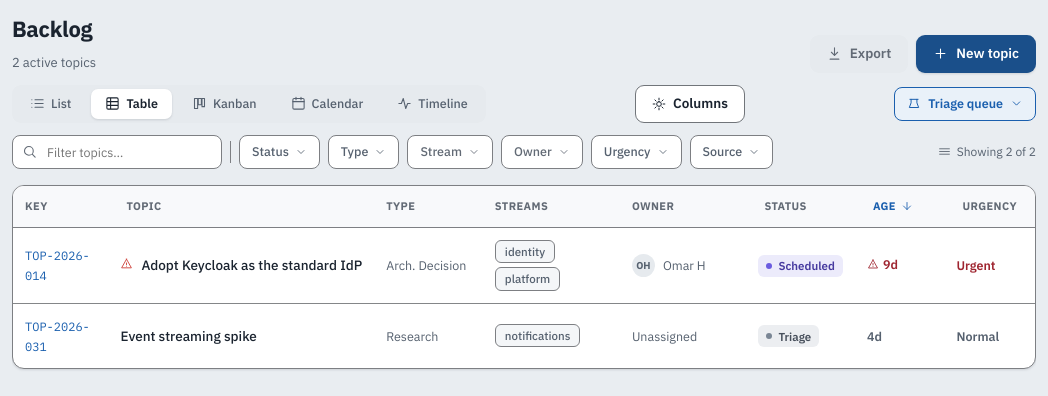
Test: Backlog (P5b) › renders the live timeline view chrome with topic rows and an honest note (D1)
The image size is (1048, 396).
Click the button "Timeline".
click(432, 104)  # box [383, 88, 482, 118]
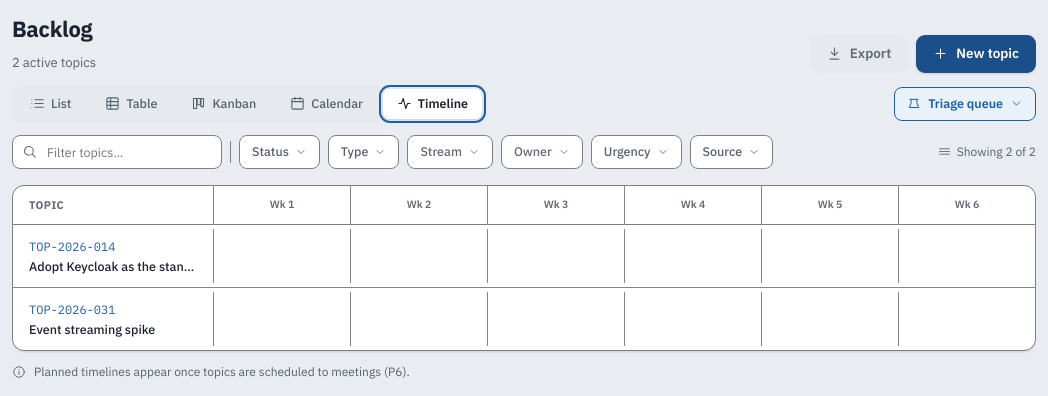
Expected: the text "Adopt Keycloak as the standard IdP" is shown, [29, 257, 197, 276]
Expected: the text "Planned timelines appear" is shown, [34, 364, 410, 378]
